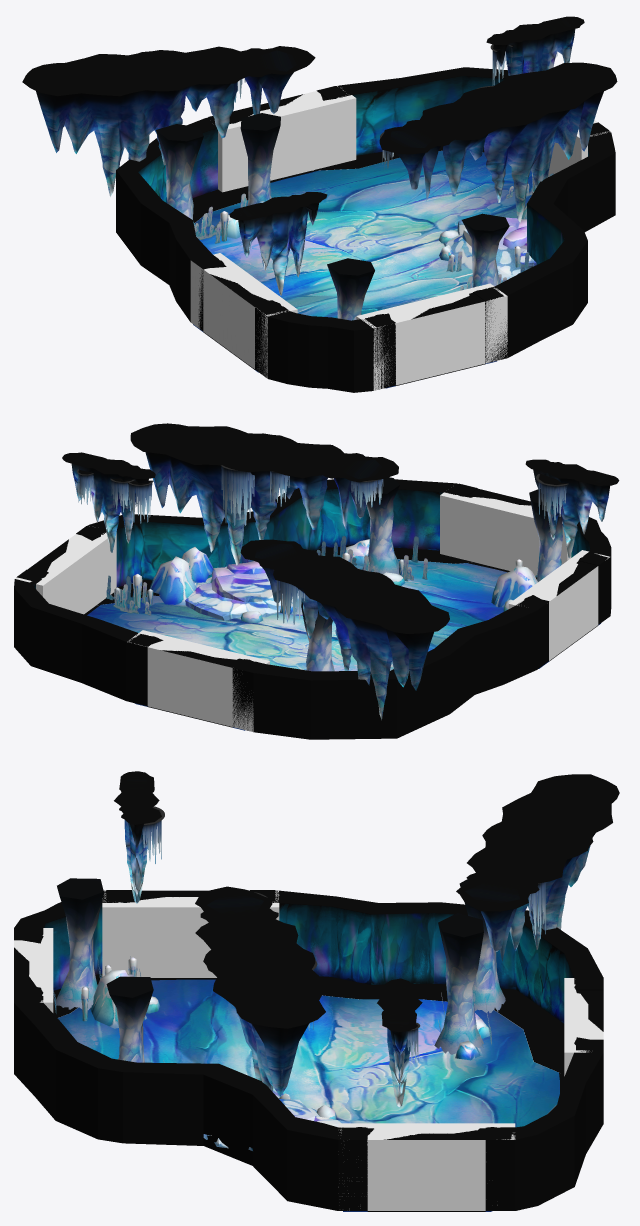
Rendered from Dungeon_072_BossRoom.fbx.
3 views of the same model, one above another, from view 1: azimuth 30°, elevation 25°; view 2: azimuth 150°, elevation 25°; view 3: azimuth 270°, elevation 25° (orthographic). The views are drawn at different scales.
Visible parts, largest first — view 1: Dun_072_Room_003_top, Dun_072_Room_003_wall, Dun_072_Room_003_ground, DoorWay_NavMask (3) (×4), Dun_072_OB_Pillar, DoorWay_NavMask (1), Dun_072_Door_002 (×3), Dun_072_OB_Big_stone, Dun_072_Room_003_shadow, Dun_072_OB_Ice_crystals02, Dun_072_OB_Icicle; view 2: Dun_072_Room_003_wall, Dun_072_Room_003_top, DoorWay_NavMask (3) (×4), Dun_072_Room_003_ground, Dun_072_OB_Icicle, DoorWay_NavMask (1) (×2), Dun_072_OB_Pillar, Dun_072_OB_Big_stone, Dun_072_OB_Stone02, Dun_072_Door_002 (×4), Dun_072_OB_Ice_crystals02, Dun_072_Room_003_shadow (+2 smaller); view 3: Dun_072_Room_003_wall, Dun_072_Room_003_top, Dun_072_Room_003_ground, DoorWay_NavMask (3) (×4), Dun_072_OB_Pillar, DoorWay_NavMask (1) (×2), Dun_072_Door_002 (×4), Dun_072_Room_003_shadow, Dun_072_OB_Icicle, Dun_072_OB_Stone02, Dun_072_OB_Stone01, Dun_072_OB_Big_stone.
Part boxes in pixels (x1,y1,x2,y2): Dun_072_Room_003_top: (22, 16, 617, 295); Dun_072_Room_003_wall: (116, 67, 615, 392); Dun_072_Room_003_ground: (193, 150, 532, 388); DoorWay_NavMask (3) (×4): (190, 86, 610, 390); Dun_072_OB_Pillar: (156, 113, 509, 320); DoorWay_NavMask (1): (382, 291, 484, 384); Dun_072_Door_002 (×3): (193, 86, 503, 385); Dun_072_OB_Big_stone: (443, 217, 536, 280); Dun_072_Room_003_shadow: (192, 146, 484, 222); Dun_072_OB_Ice_crystals02: (194, 173, 553, 290); Dun_072_OB_Icicle: (234, 44, 557, 169); Dun_072_Room_003_wall: (14, 479, 611, 739); Dun_072_Room_003_top: (62, 423, 619, 720); DoorWay_NavMask (3) (×4): (15, 492, 609, 731); Dun_072_Room_003_ground: (87, 559, 600, 730); Dun_072_OB_Icicle: (77, 465, 568, 624); DoorWay_NavMask (1) (×2): (147, 566, 598, 726); Dun_072_OB_Pillar: (301, 477, 562, 671); Dun_072_OB_Big_stone: (185, 561, 298, 620); Dun_072_OB_Stone02: (149, 539, 537, 607); Dun_072_Door_002 (×4): (16, 483, 608, 727); Dun_072_OB_Ice_crystals02: (106, 536, 538, 615); Dun_072_Room_003_shadow: (97, 546, 536, 605); Dun_072_Room_003_wall: (14, 890, 603, 1210); Dun_072_Room_003_top: (114, 771, 619, 1107); Dun_072_Room_003_ground: (57, 979, 559, 1211); DoorWay_NavMask (3) (×4): (14, 891, 589, 1210); Dun_072_OB_Pillar: (55, 878, 505, 1062); DoorWay_NavMask (1) (×2): (367, 990, 603, 1210); Dun_072_Door_002 (×4): (14, 890, 603, 1211); Dun_072_Room_003_shadow: (53, 973, 564, 1113); Dun_072_OB_Icicle: (142, 806, 545, 1064); Dun_072_OB_Stone02: (90, 970, 491, 1150); Dun_072_OB_Stone01: (146, 996, 480, 1119); Dun_072_OB_Big_stone: (203, 1099, 350, 1148).
Size of what is drawn, in the model's own units: 16.46 by 5.05 by 15.57.
